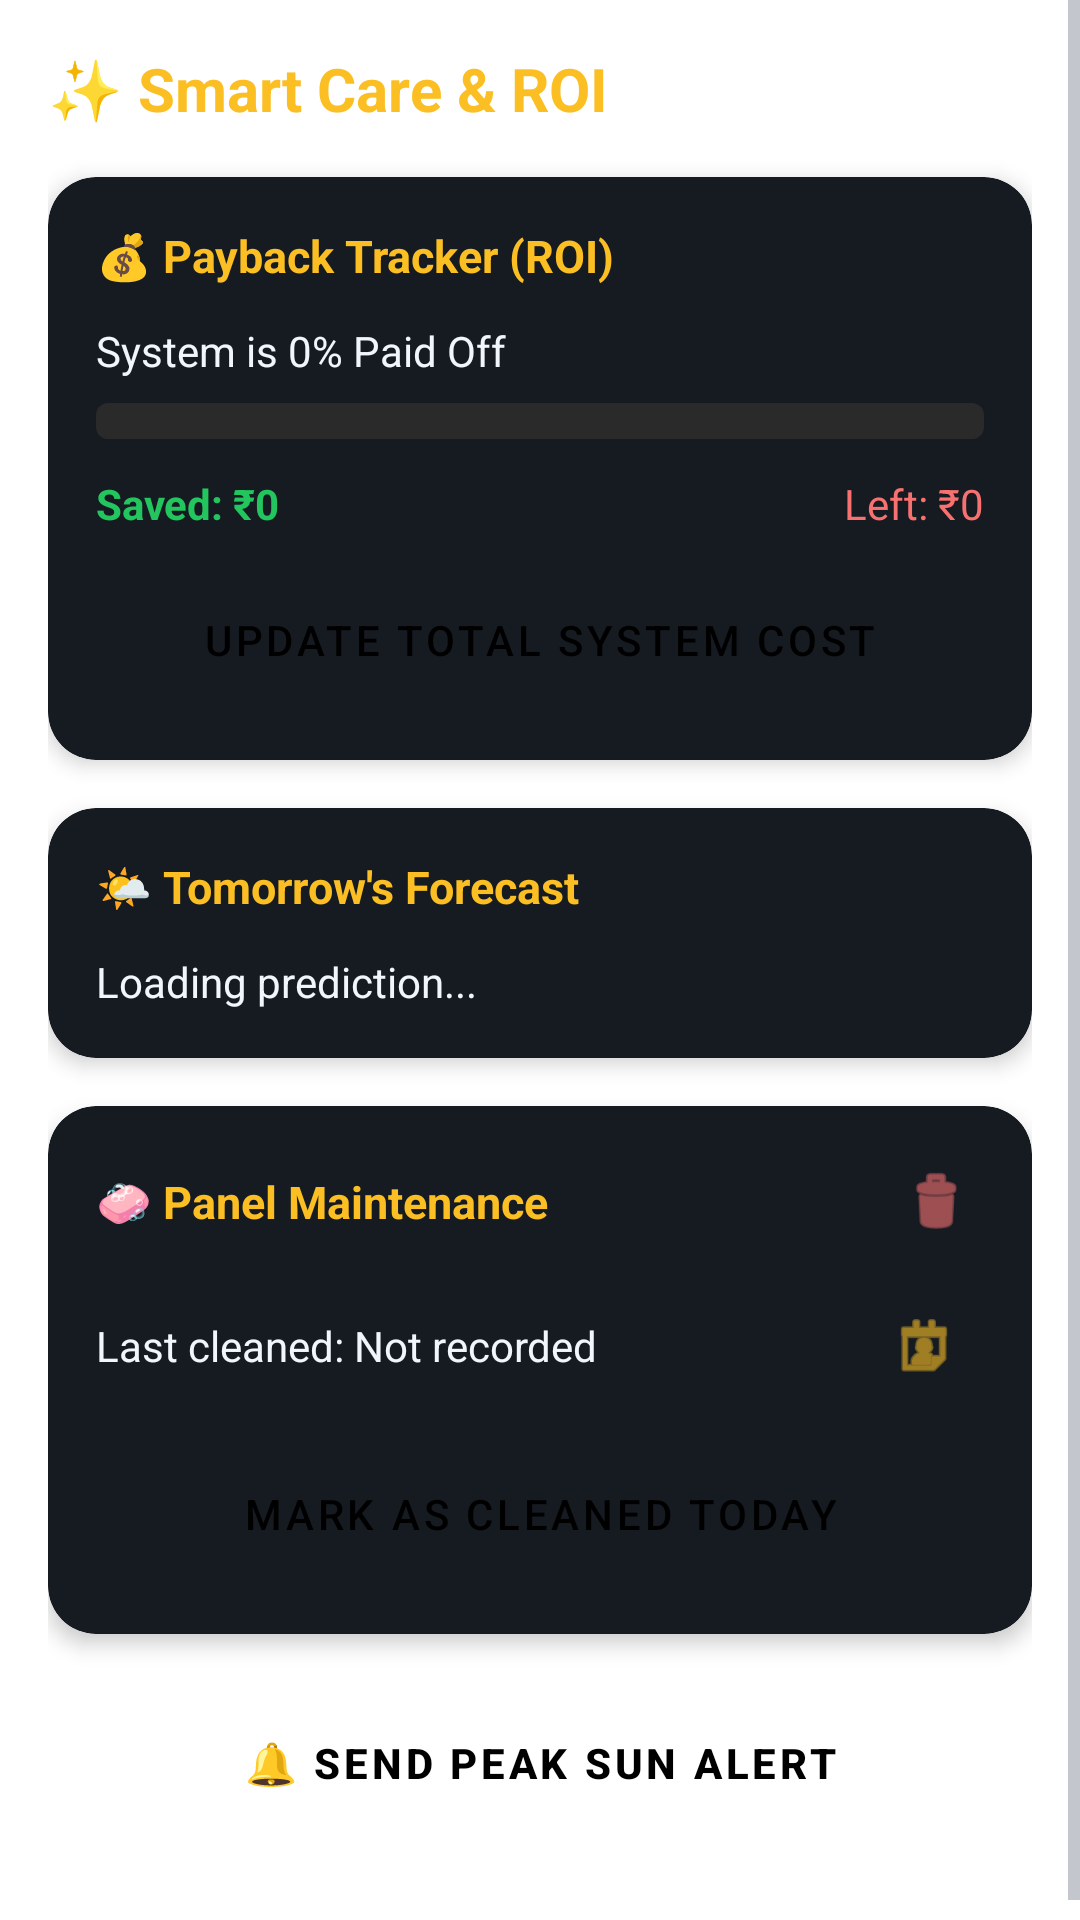

Screen size 1080px x 1920px. Icon name, then its box in pixels as (x1=x1, y1=y1, x2=x2, y2=y2):
delete: (x1=916, y1=1173, x2=957, y2=1229)
Select Date: (x1=901, y1=1319, x2=947, y2=1372)
